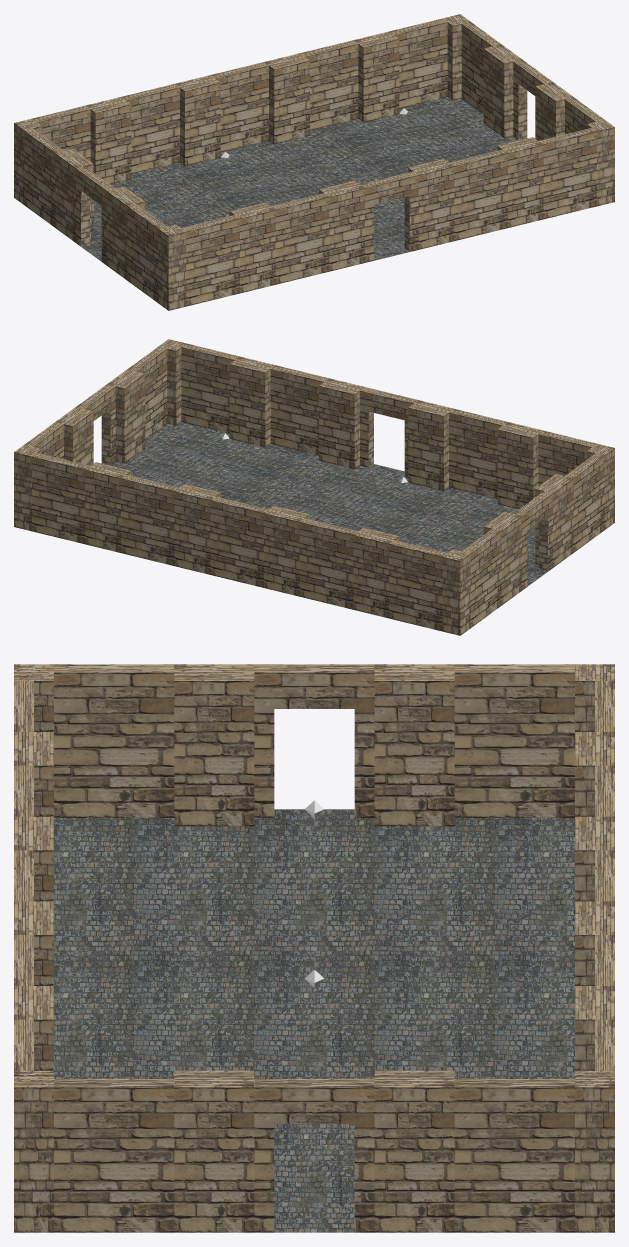
File: 1_threeDoorCor.fbx
3 renders of one model, top to bottom at view 1: azimuth 30°, elevation 25°; view 2: azimuth 150°, elevation 25°; view 3: azimuth 270°, elevation 25°, orthographic. The views are drawn at different scales.
Visible parts, largest first — view 1: Cube_1, Plane; view 2: Cube_1, Plane; view 3: Cube_1, Plane.
Part boxes in pixels (box(x1,y1,x2,y2)): Cube_1: box(14, 14, 614, 310); Plane: box(81, 97, 527, 261); Cube_1: box(14, 339, 614, 635); Plane: box(101, 422, 547, 586); Cube_1: box(14, 664, 614, 1232); Plane: box(54, 809, 574, 1232).
Bounding box in the file's own units: 50 × 8 × 30.
2 materials, 2 textured.
